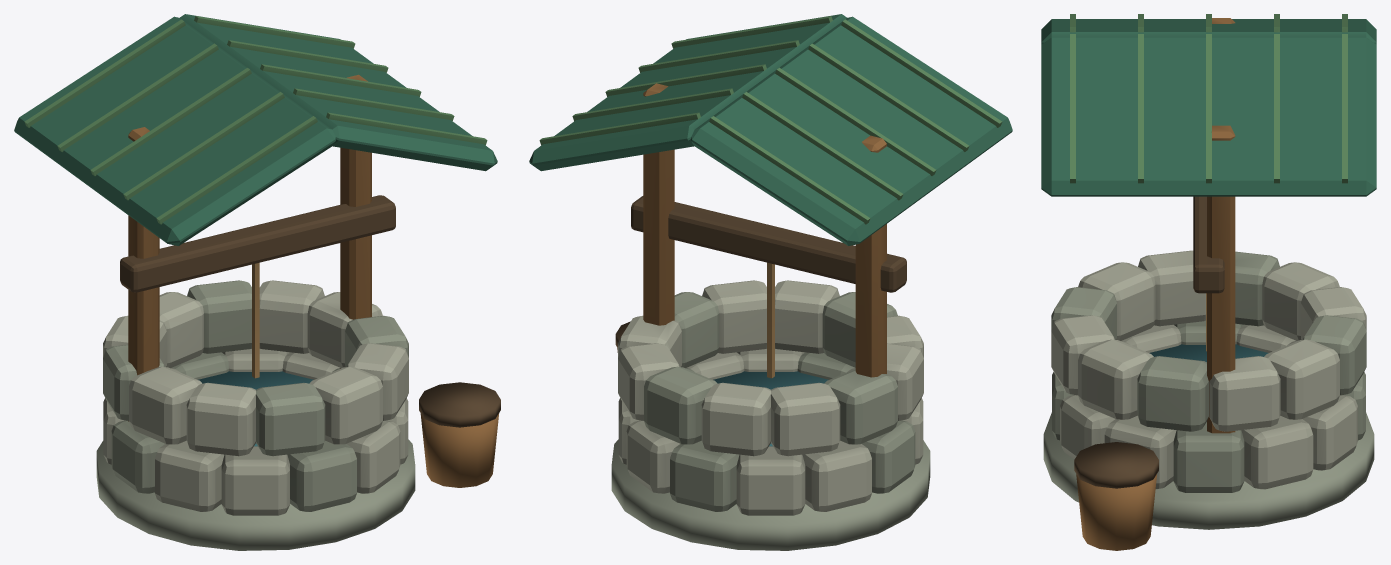
File: well.glb
3 renders of one model, left to right at view 1: azimuth 30°, elevation 25°; view 2: azimuth 150°, elevation 25°; view 3: azimuth 270°, elevation 25°, orthographic. The views are drawn at different scales.
Parts seen in each view (by area): view 1: well; view 2: well; view 3: well.
Part boxes in pixels (bbox=[...]): well: bbox=[14, 14, 500, 550]; well: bbox=[529, 14, 1012, 550]; well: bbox=[1041, 14, 1376, 550].
Bounding box in the file's own units: 0.8826 × 0.9756 × 0.69.
